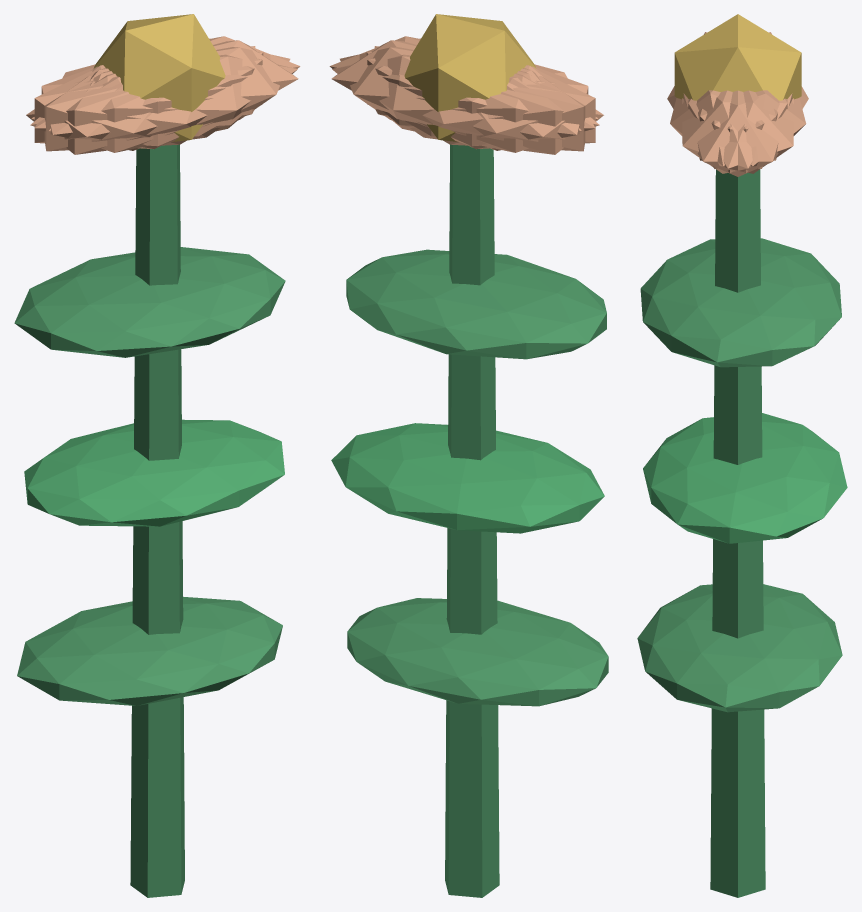
The model's file is tradescantia-zebrina.glb.
3 views of the same model, side by side, from view 1: azimuth 30°, elevation 25°; view 2: azimuth 150°, elevation 25°; view 3: azimuth 270°, elevation 25° (orthographic).
Parts seen in each view (by area): view 1: stem, leaf2, leaf0, leaf1, center, petal1, petal6, petal2, petal5, petal7, petal0, petal4 (+2 smaller); view 2: stem, leaf1, leaf2, leaf0, center, petal8, petal3, petal7, petal4, petal2, petal0, petal5 (+2 smaller); view 3: stem, leaf2, leaf1, leaf0, center, petal0, petal5, petal4, petal8, petal1.
Part boxes in pixels (x1,y1,x2,y2): stem: (130,144,184,897); leaf2: (14,247,285,357); leaf0: (17,596,282,705); leaf1: (24,419,284,526); center: (93,14,225,141); petal1: (30,54,297,152); petal6: (26,66,219,154); petal2: (44,46,255,151); petal5: (48,47,290,146); petal7: (34,51,263,149); petal0: (93,40,298,136); petal4: (31,36,300,128); stem: (445,144,499,897); leaf1: (331,423,604,533); leaf2: (346,249,606,359); leaf0: (347,598,608,706); center: (404,14,536,141); petal8: (332,54,599,152); petal3: (410,66,603,154); petal7: (374,46,585,151); petal4: (340,47,581,146); petal2: (366,51,595,149); petal0: (331,40,536,136); petal5: (329,36,598,128); stem: (710,169,765,897); leaf2: (640,238,841,367); leaf1: (643,413,847,543); leaf0: (637,584,842,712); center: (674,14,801,100); petal0: (683,90,792,176); petal5: (682,90,787,173); petal4: (688,90,793,173); petal8: (698,90,806,166); petal1: (670,90,777,166).
Bounding box in the file's own units: 0.1489 × 0.4552 × 0.1014.
